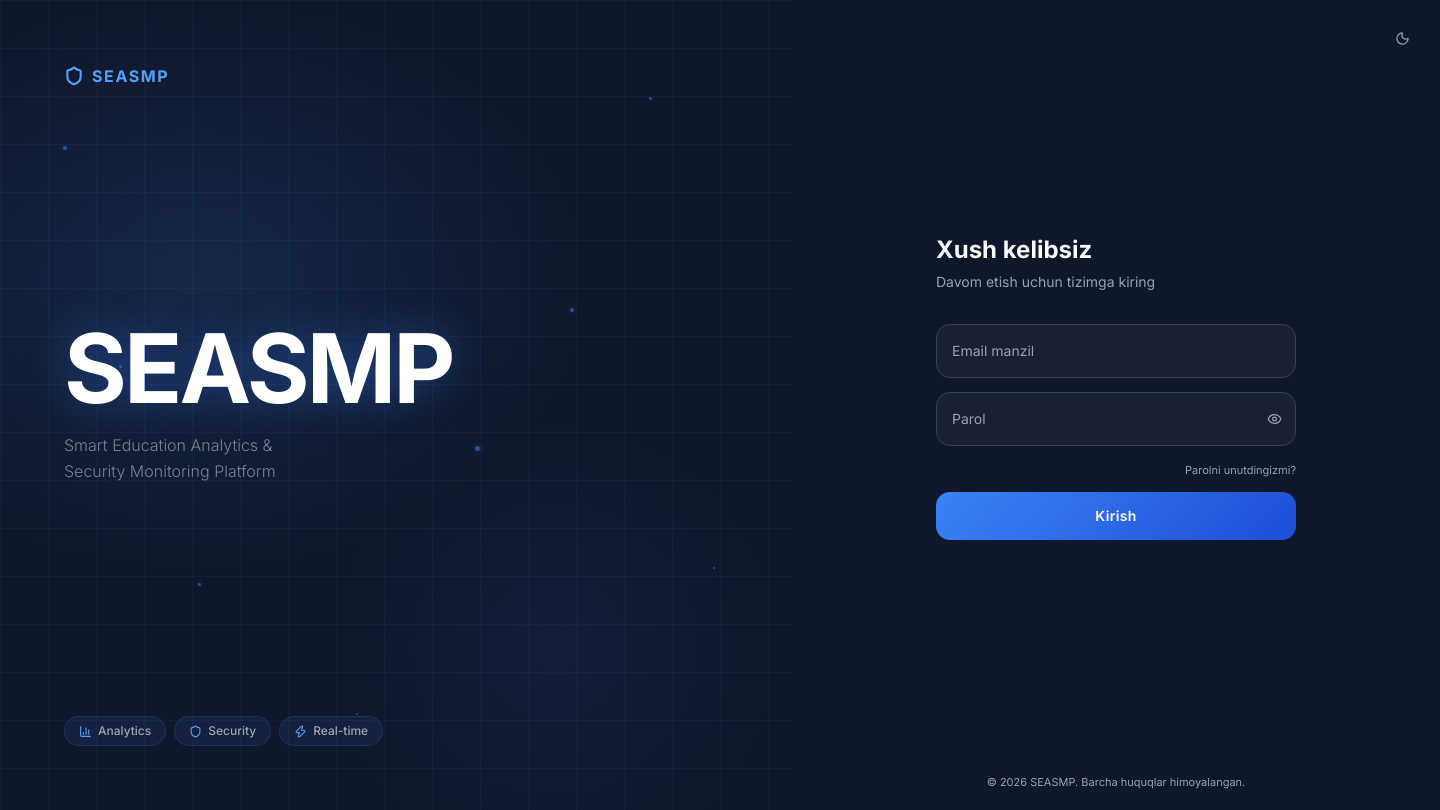
it: LoginPage — credentials step › transitions to totp step when requires_2fa
The image size is (1440, 810).
Type "admin@test.com" into the field labelled "Email manzil" at (1116, 350), box [936,324,1296,378]
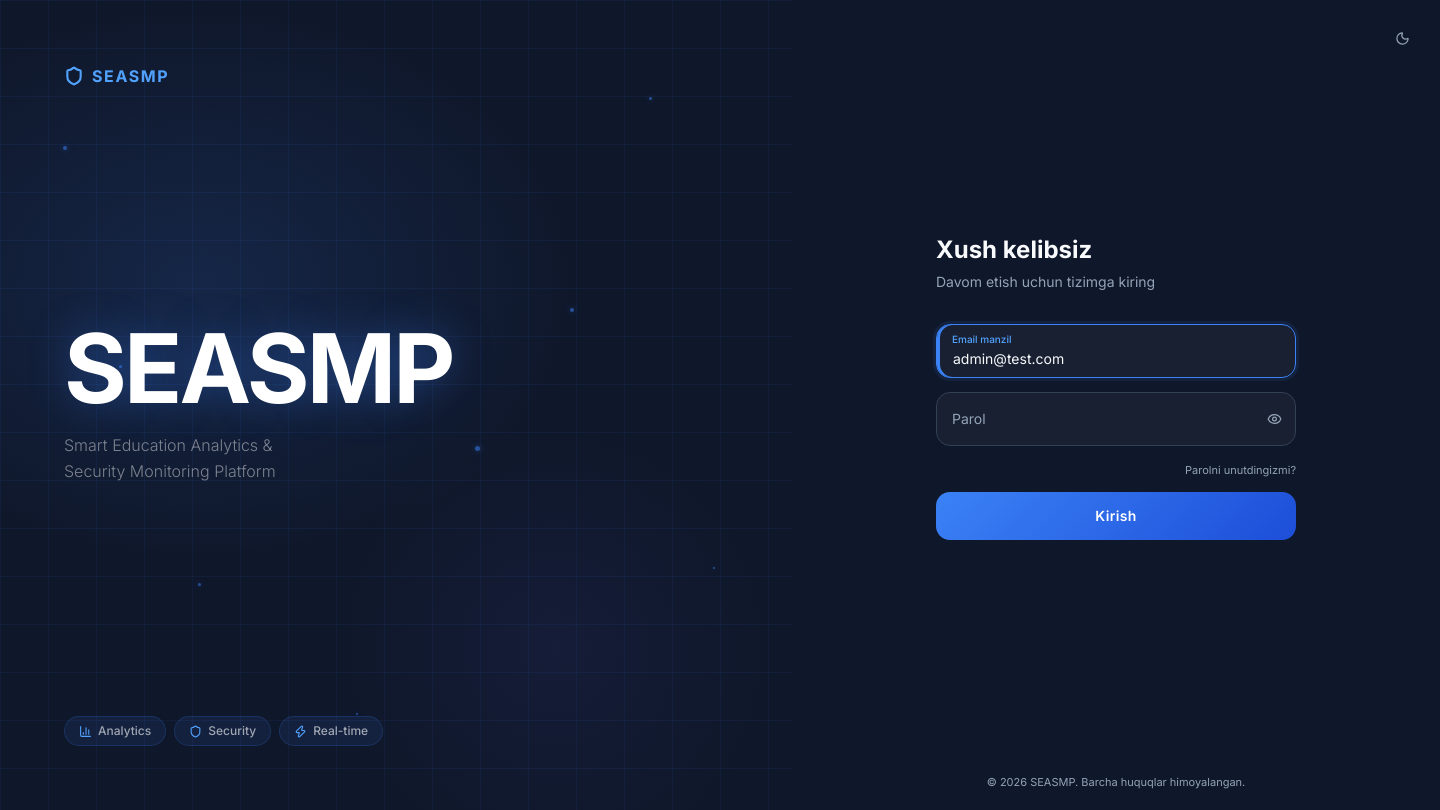
Type "Password@1" into the password field labelled "Parol" at (1116, 418), box [936,392,1296,446]
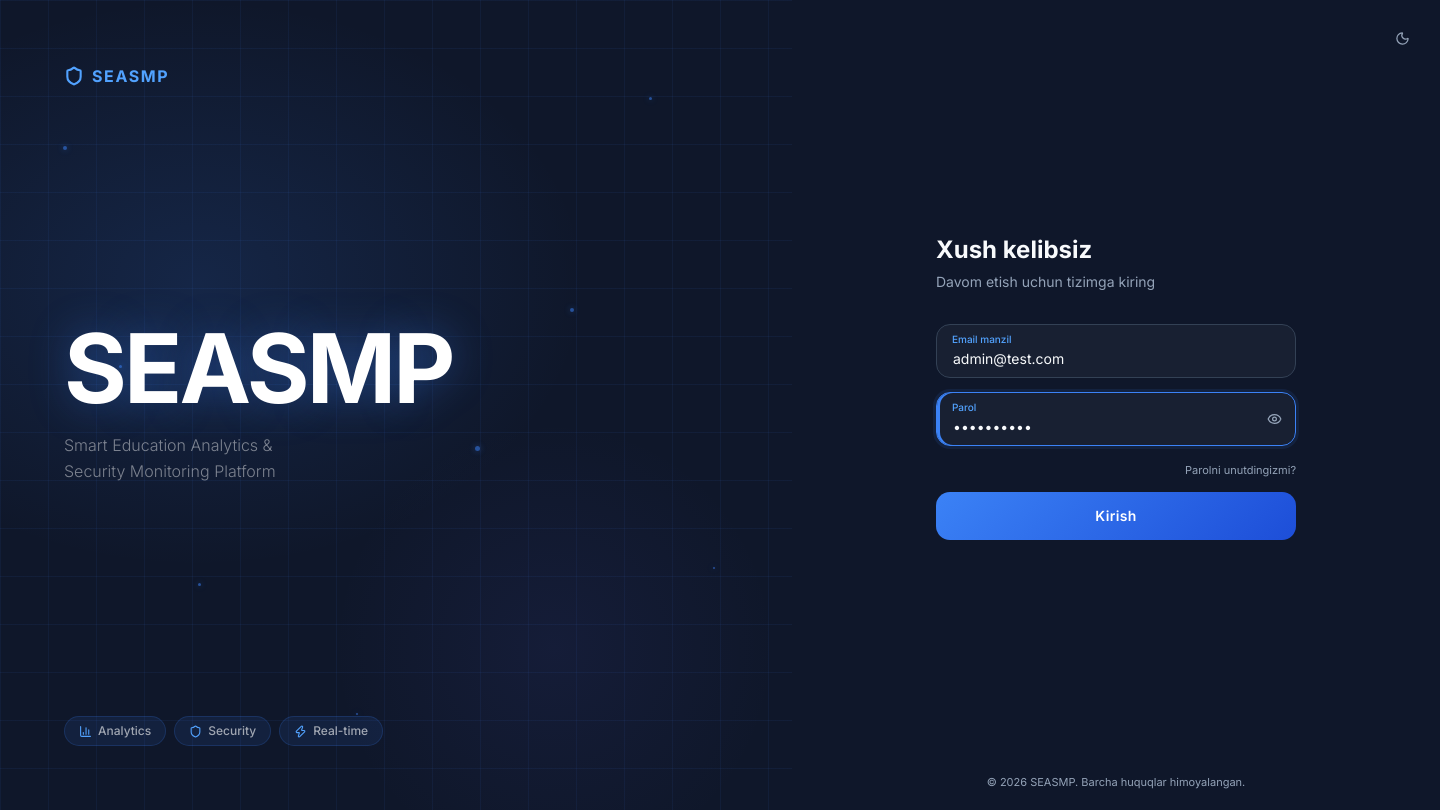
Click the button "Kirish" at (1116, 516), box [936,492,1296,540]
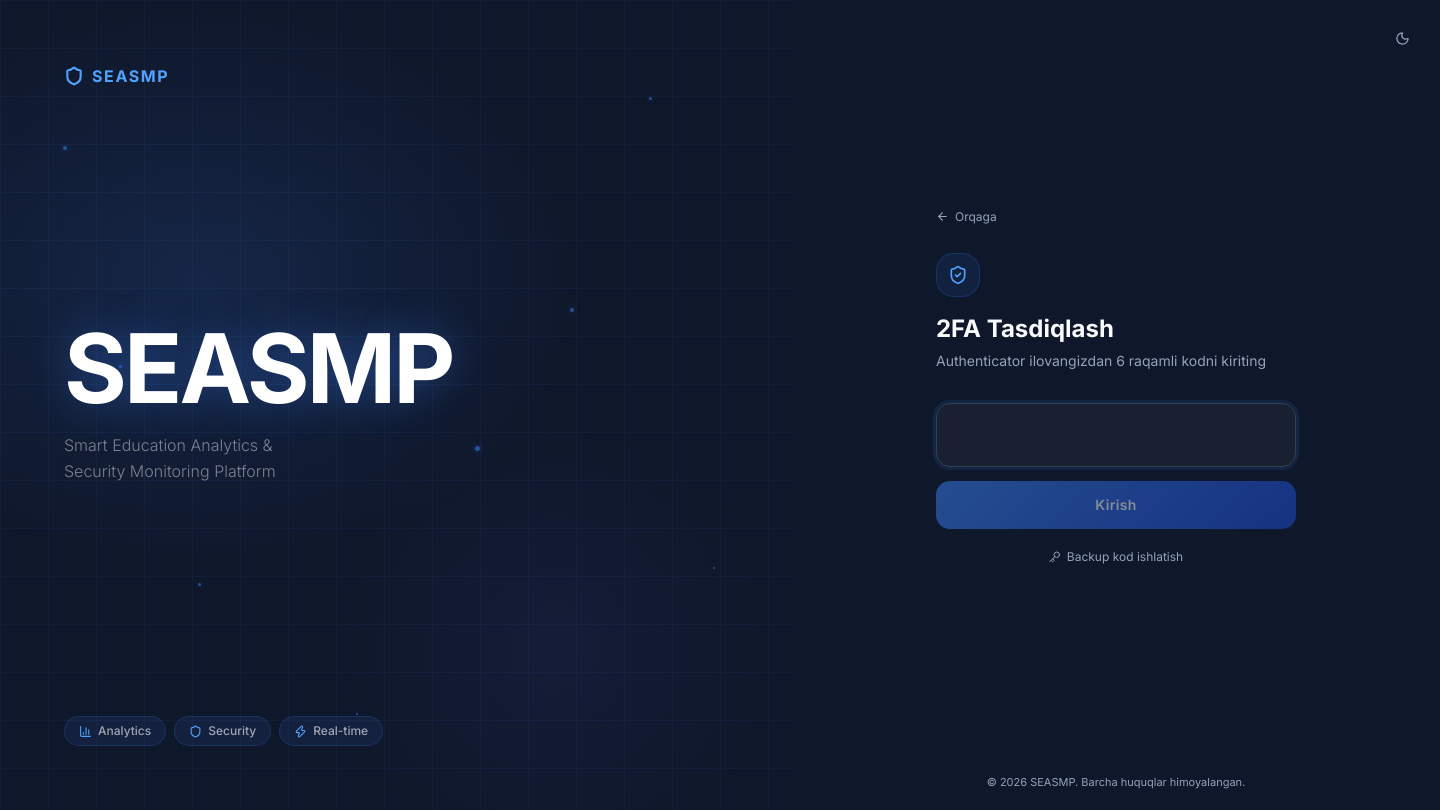
Now the heading "2FA Tasdiqlash" is shown, box [936,314,1114,343]
